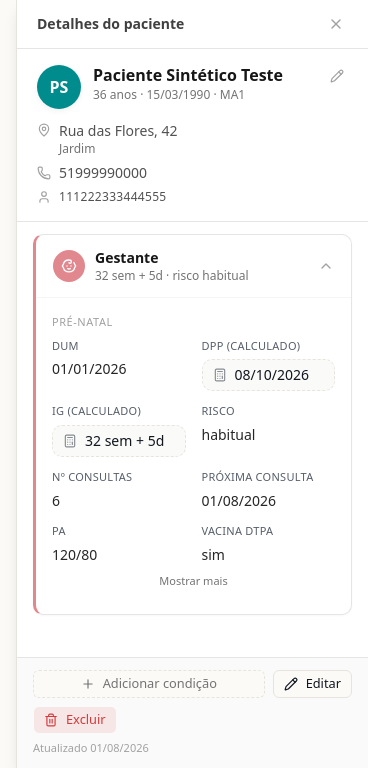
PatientDetailPanel › surfaces gestante full-parity fields under 'Mostrar mais'
The width and height of the screenshot is (368, 768).
Check: the text "Resultado teste rápido" is not shown
Step 1. Click the button "Mostrar mais" → {"x": 193, "y": 580}, box left=159, top=572, right=228, bottom=588
(page scrolled)
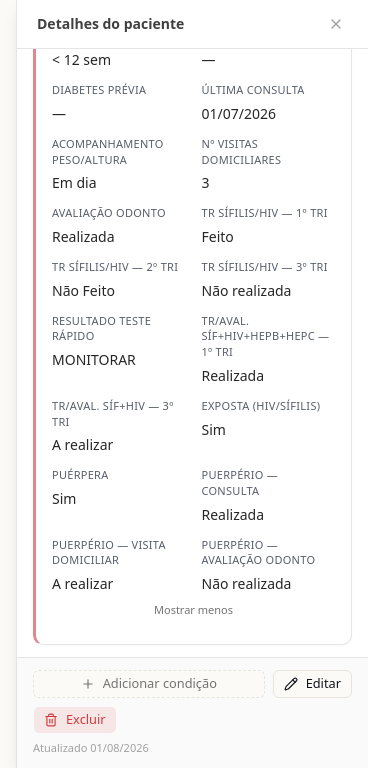
Check: the text "Resultado teste rápido" is shown, box left=52, top=313, right=151, bottom=343
Check: the text "MONITORAR" is shown, box left=52, top=350, right=136, bottom=369
Check: the text "TR Sífilis/HIV — 1º tri" is shown, box left=202, top=205, right=335, bottom=221
